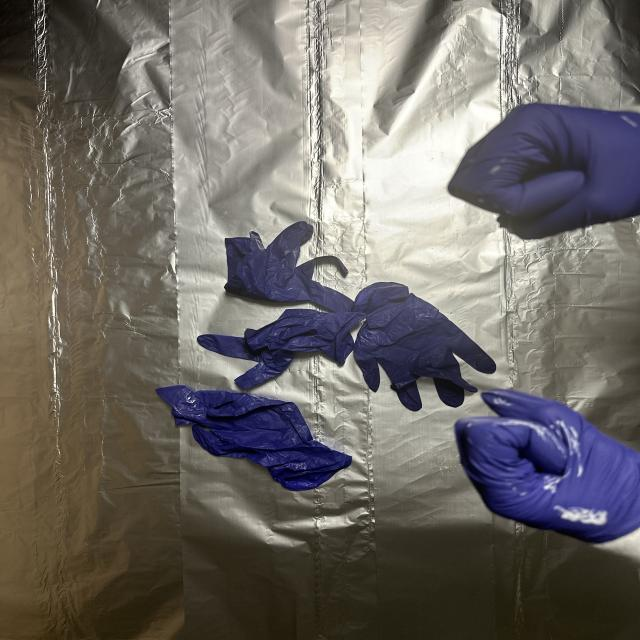gloves_contaminated: (455, 389, 640, 543), (448, 104, 640, 239)
